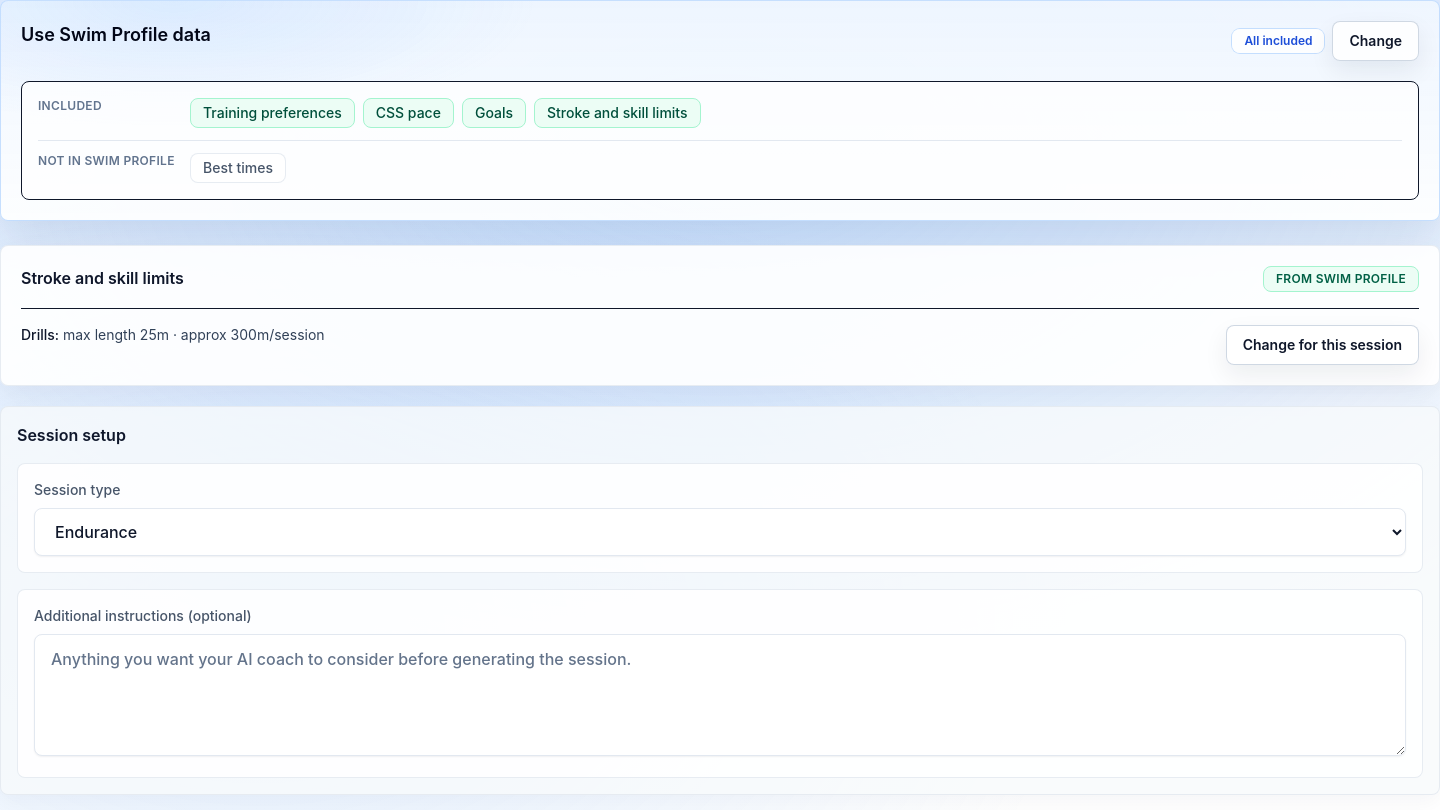
Test: GeneratorIntakeHub › updates the saved-information summary when included blocks change
The width and height of the screenshot is (1440, 810).
What coordinates should you click on to do the following:
click the button with test id "generator-intake-source-toggle"
I would click on:
 (1376, 41)
Its box is 1332,21 -> 1419,61.
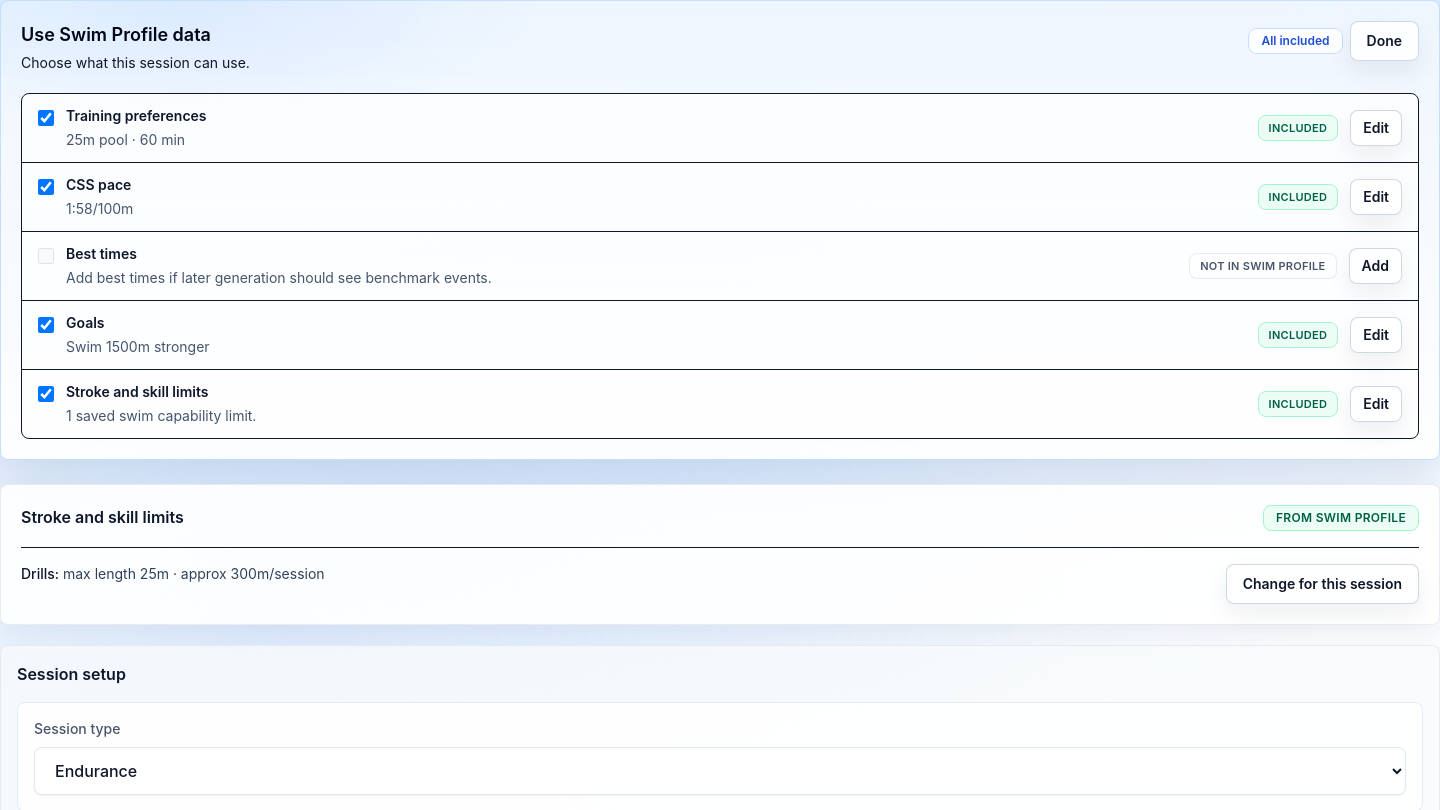
What coordinates should you click on to do the following:
click the checkbox with test id "generator-intake-include-goals"
I would click on:
 (46, 325)
Its box is 38,317 -> 54,333.
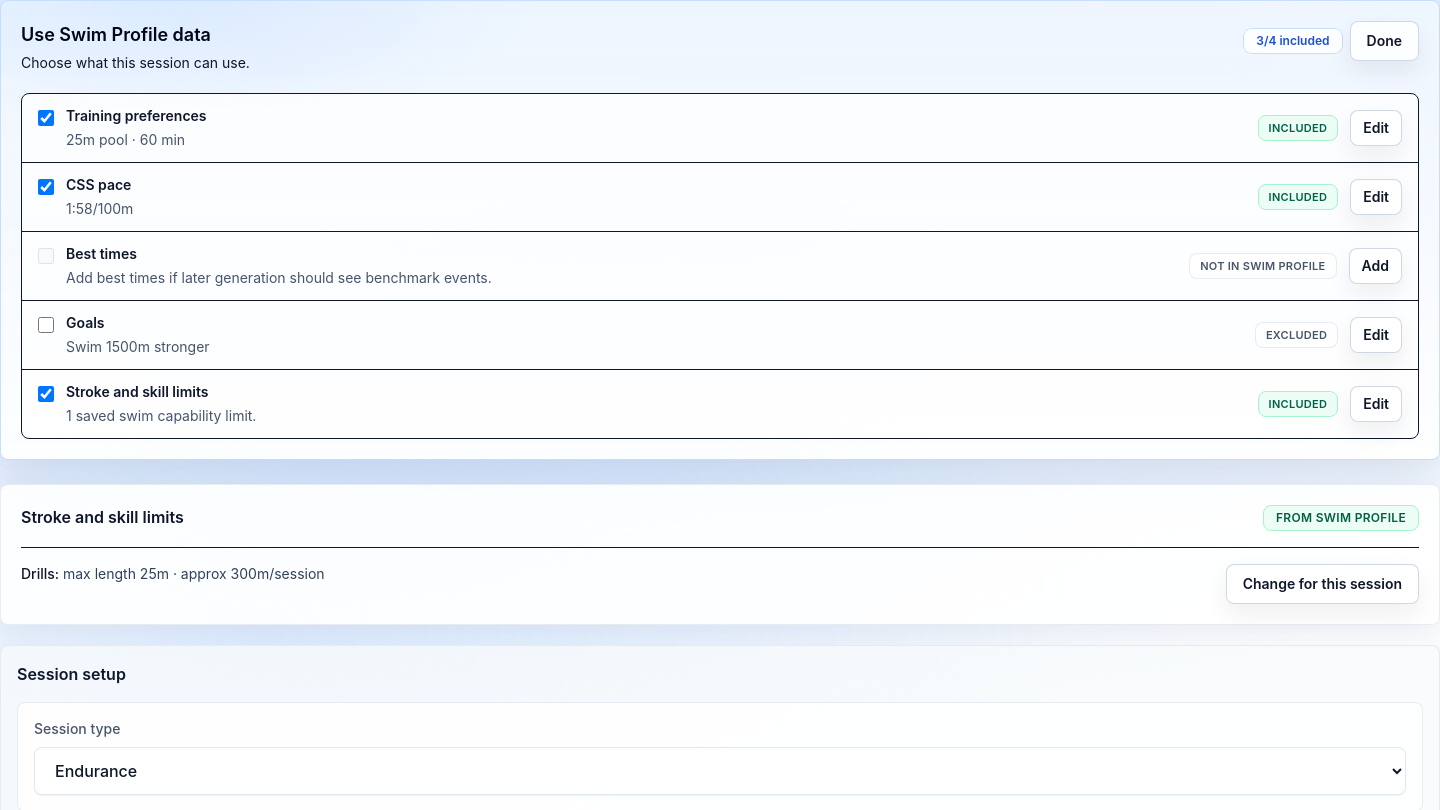
Check: the text "3/4 included" is shown, box 1244,29 -> 1342,53
